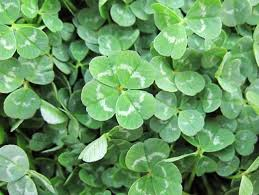4-clover: (78, 51, 158, 131)
